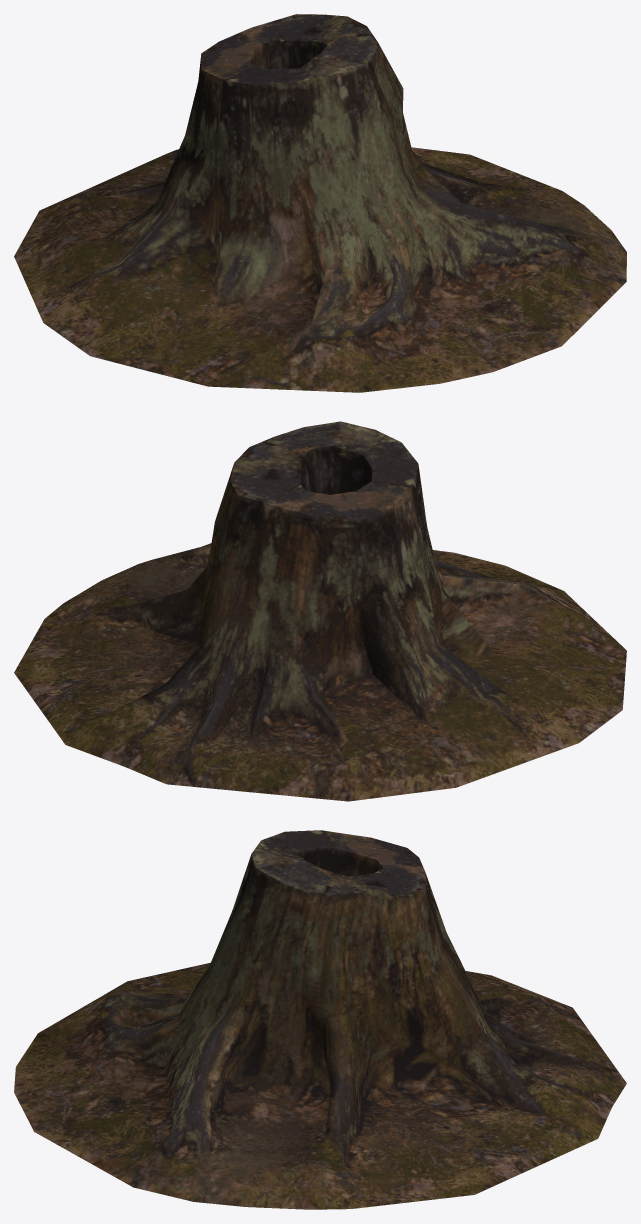
File: SM_FOL_TreeStump_01_A.glb
3 renders of one model, top to bottom at view 1: azimuth 30°, elevation 25°; view 2: azimuth 150°, elevation 25°; view 3: azimuth 270°, elevation 25°, orthographic.
Parts seen in each view (by area): view 1: SM_FOL_TreeStump_01_A; view 2: SM_FOL_TreeStump_01_A; view 3: SM_FOL_TreeStump_01_A.
Part boxes in pixels (<box>): SM_FOL_TreeStump_01_A: <box>14,14,626,392</box>; SM_FOL_TreeStump_01_A: <box>14,421,626,801</box>; SM_FOL_TreeStump_01_A: <box>14,830,626,1209</box>.
Bounding box in the file's own units: 1.81 × 0.7307 × 1.83.
Materials: 1 (1 with a texture image).
